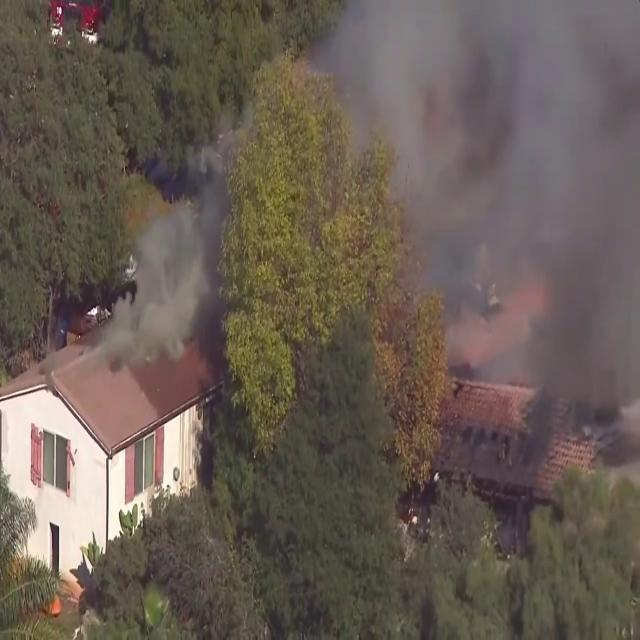Smoke: (304, 0, 640, 444), (95, 150, 266, 392)
